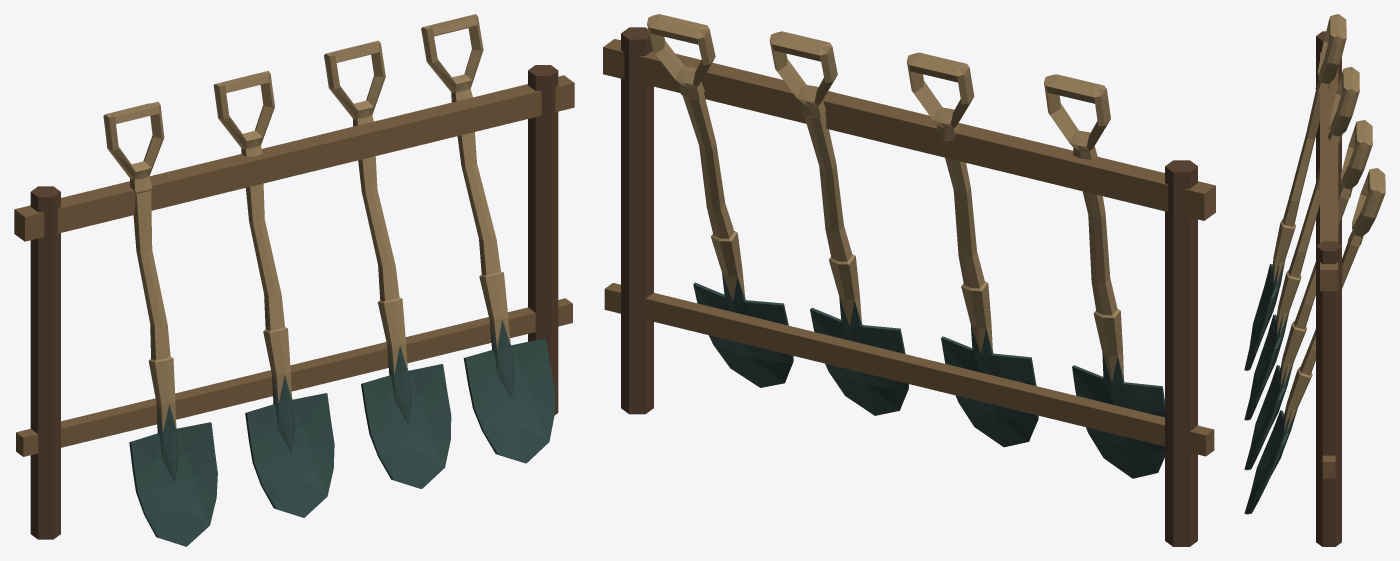
Rendered from DressToolRack.glb.
The picture shows the model from 3 angles, left to right: view 1: azimuth 30°, elevation 25°; view 2: azimuth 150°, elevation 25°; view 3: azimuth 270°, elevation 25°; orthographic projection. The views are drawn at different scales.
Visible parts, largest first — view 1: DressToolRack; view 2: DressToolRack; view 3: DressToolRack.
Part boxes in pixels (x1,y1,x2,y2): DressToolRack: (14,14,574,546); DressToolRack: (603,14,1215,546); DressToolRack: (1244,14,1385,546).
Size of the model in its own units: 2.1 by 1.46 by 0.5412.
